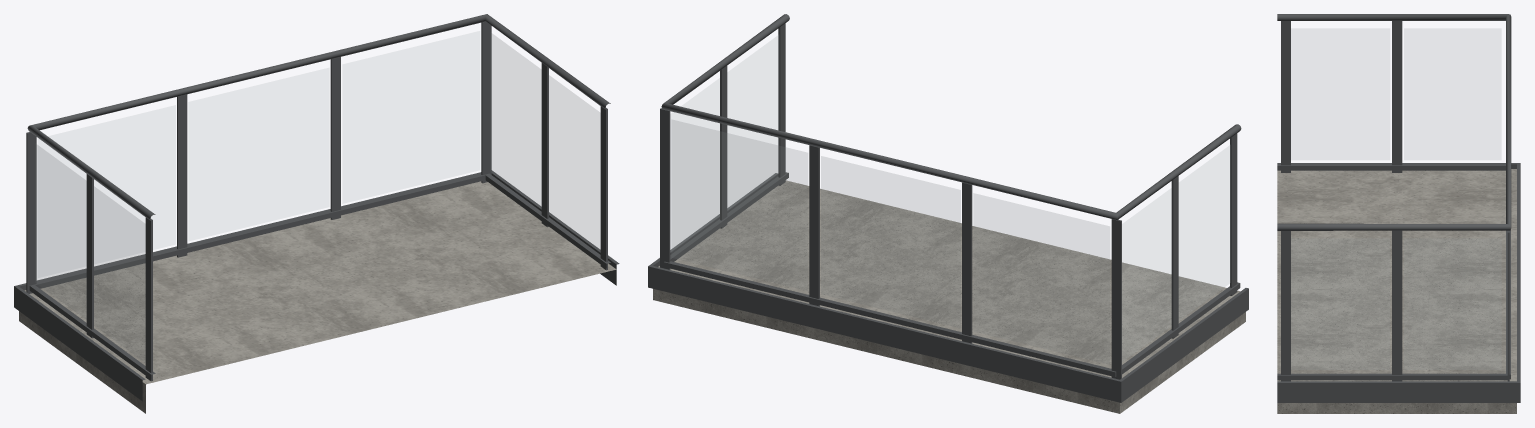
File: balcony_modern.glb
3 views of the same model, side by side, from view 1: azimuth 30°, elevation 25°; view 2: azimuth 150°, elevation 25°; view 3: azimuth 270°, elevation 25° (orthographic). The views are drawn at different scales.
Parts seen in each view (by area): view 1: balcony_modern; view 2: balcony_modern; view 3: balcony_modern.
Boxes of the visible parts, left/top/right/bottom form: balcony_modern: left=14, top=14, right=619, bottom=413; balcony_modern: left=648, top=14, right=1248, bottom=413; balcony_modern: left=1277, top=14, right=1520, bottom=413.
Bounding box in the file's own units: 3.04 × 1.2 × 1.42.
3 materials, 1 textured.
